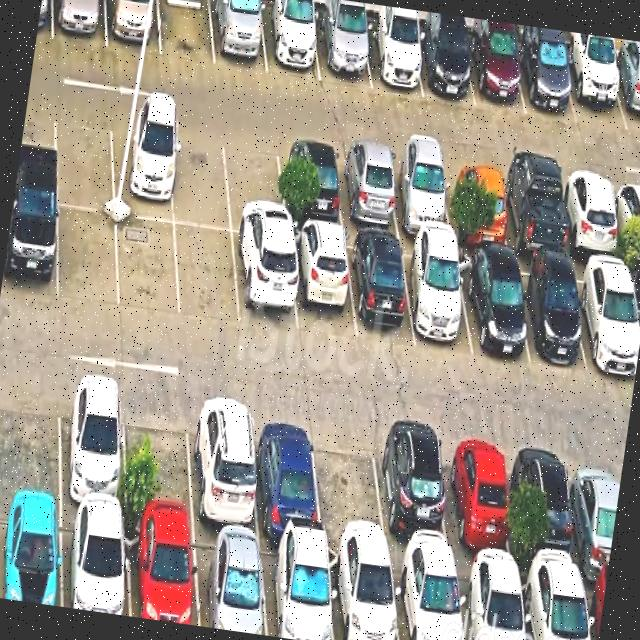empty: (313, 416, 388, 553), (124, 386, 194, 526), (0, 369, 60, 504), (223, 131, 286, 239), (175, 225, 240, 325), (171, 124, 231, 230), (118, 216, 179, 319), (55, 106, 114, 211), (59, 206, 119, 308), (158, 0, 215, 65)
occupied: (373, 424, 454, 562), (441, 431, 514, 571), (189, 395, 259, 535), (251, 405, 322, 541), (515, 439, 582, 577), (60, 375, 126, 515), (456, 252, 530, 364), (401, 242, 473, 356), (511, 258, 586, 366), (192, 528, 267, 636), (571, 261, 640, 376), (126, 519, 198, 626), (346, 234, 415, 344), (260, 538, 333, 640), (290, 227, 356, 339), (63, 509, 130, 616), (568, 447, 621, 580), (111, 115, 174, 222), (328, 547, 399, 640), (0, 502, 61, 607), (499, 167, 568, 259), (233, 235, 297, 333), (1, 194, 58, 301), (391, 558, 464, 640), (278, 139, 344, 229), (444, 160, 510, 249), (388, 152, 453, 239), (336, 146, 400, 234), (561, 47, 627, 131), (559, 174, 622, 260), (455, 564, 526, 640), (516, 37, 577, 123), (466, 31, 526, 114), (519, 571, 590, 640), (413, 28, 475, 106), (260, 2, 320, 81), (362, 20, 423, 97), (210, 0, 267, 74), (315, 13, 371, 87), (105, 0, 161, 55), (608, 52, 640, 133), (53, 0, 107, 47), (611, 179, 640, 261)
